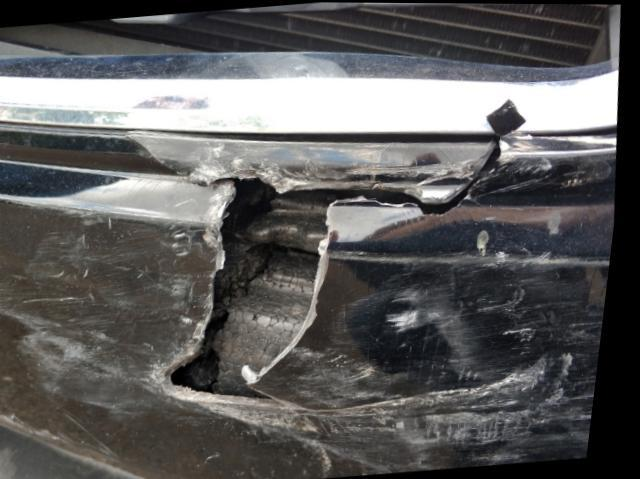crack: (128, 134, 506, 400)
rub: (286, 252, 613, 471), (0, 179, 227, 407)
